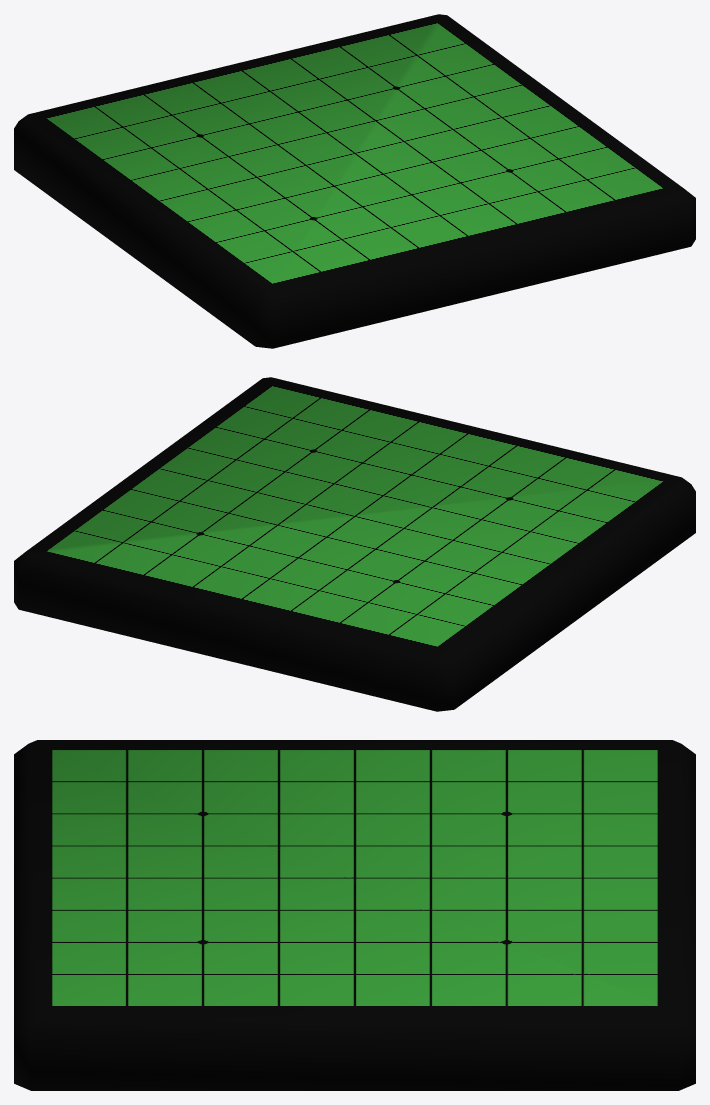
The model's file is Model_Board.fbx.
The picture shows the model from 3 angles, top to bottom: view 1: azimuth 30°, elevation 25°; view 2: azimuth 150°, elevation 25°; view 3: azimuth 270°, elevation 25°; orthographic projection. The views are drawn at different scales.
Visible parts, largest first — view 1: Board; view 2: Board; view 3: Board.
Boxes of the visible parts, x1,y1,x2,y2 form: Board: [14, 14, 695, 348]; Board: [14, 377, 695, 711]; Board: [14, 740, 695, 1090].
Bounding box in the file's own units: 9 × 1 × 9.
